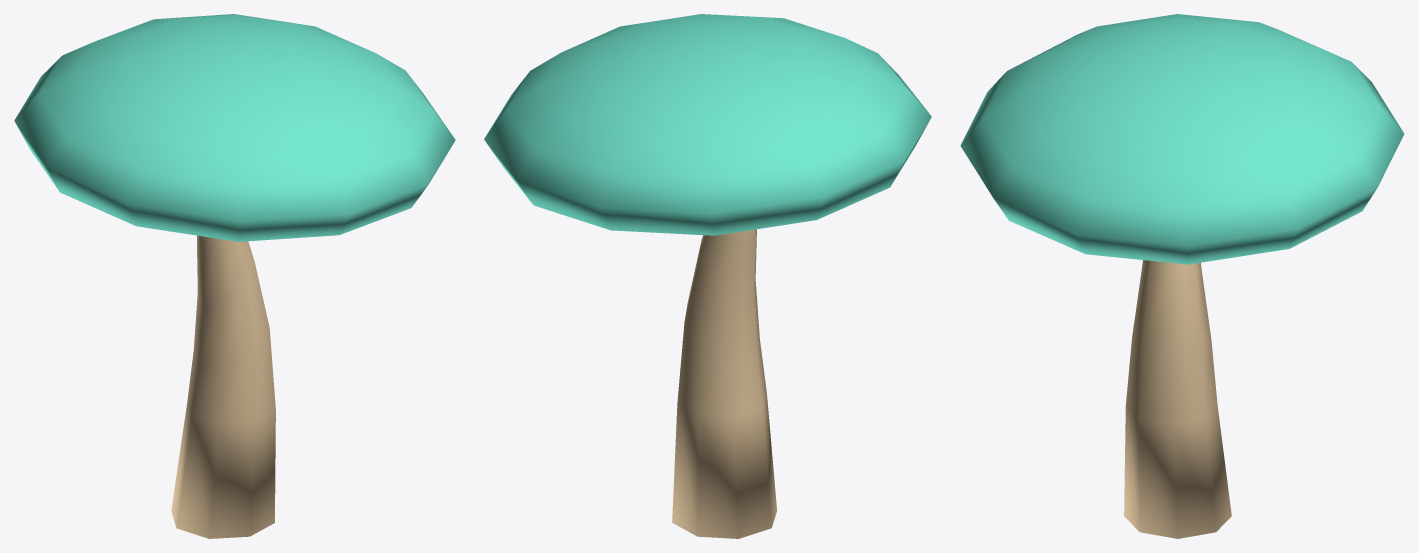
The model's file is ShroomFloor_2.fbx.
The picture shows the model from 3 angles, left to right: view 1: azimuth 30°, elevation 25°; view 2: azimuth 150°, elevation 25°; view 3: azimuth 270°, elevation 25°; orthographic projection.
Visible parts, largest first — view 1: ShroomFloor_2; view 2: ShroomFloor_2; view 3: ShroomFloor_2.
Part boxes in pixels (x1,y1,x2,y2): ShroomFloor_2: (14, 14, 455, 538); ShroomFloor_2: (484, 14, 931, 538); ShroomFloor_2: (960, 14, 1404, 538).
Bounding box in the file's own units: 386 × 447 × 386.
